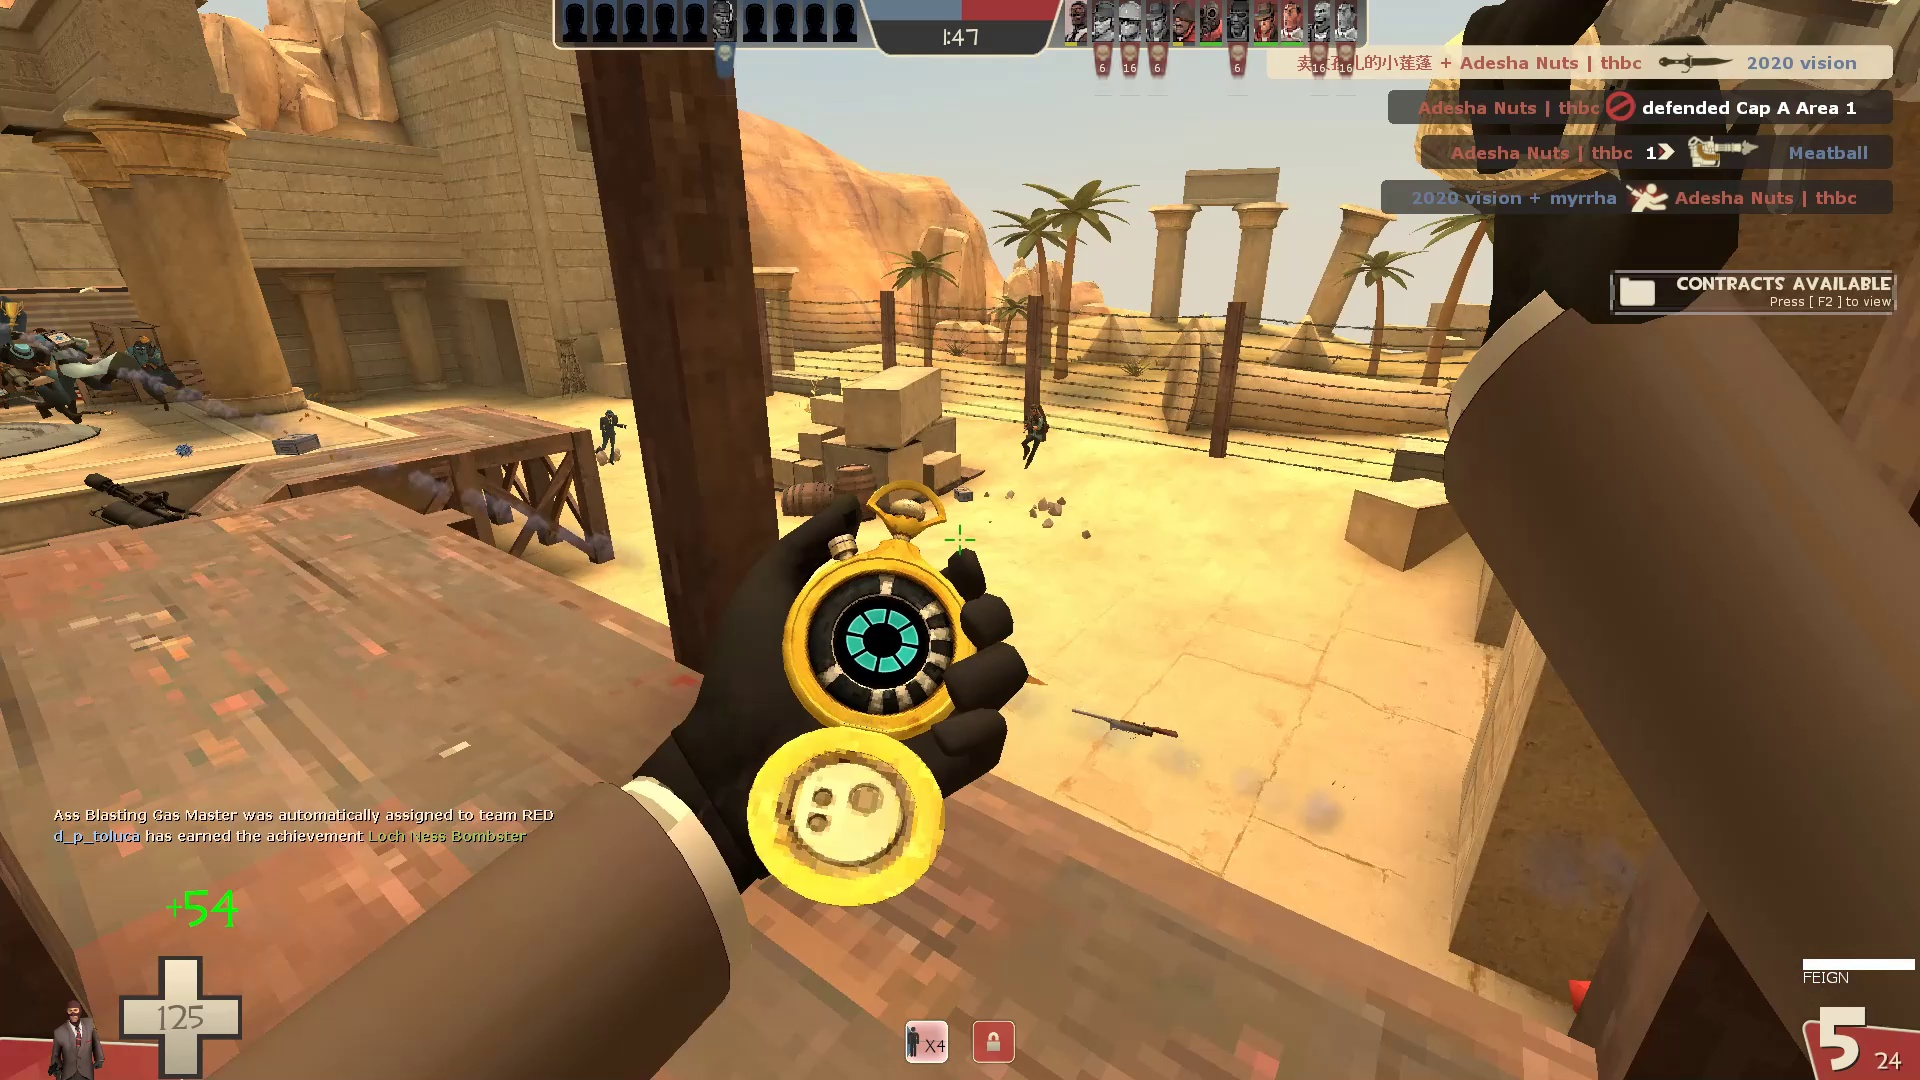blu_demo: (1, 320, 87, 431)
blu_medic: (32, 319, 127, 425)
blu_pyro: (121, 334, 194, 414)
blu_sniper: (1017, 401, 1048, 471)
blu_spy: (589, 404, 628, 469)
